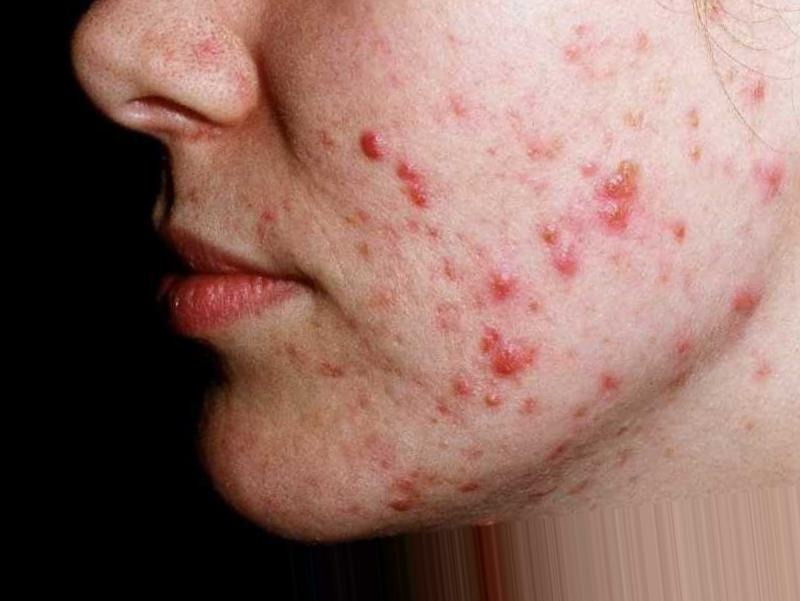Acne: (583, 153, 648, 242), (347, 120, 397, 168), (472, 378, 510, 420), (488, 260, 518, 308)
